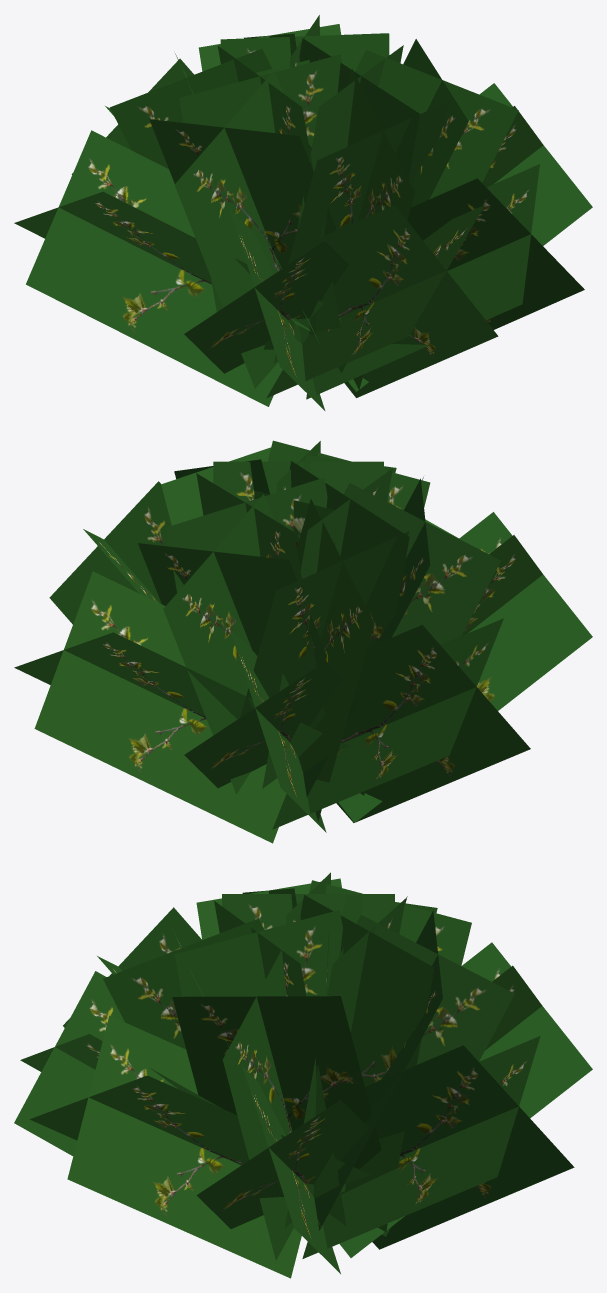
File: bush2.FBX
3 views of the same model, one above another, from view 1: azimuth 30°, elevation 25°; view 2: azimuth 150°, elevation 25°; view 3: azimuth 270°, elevation 25° (orthographic). The views are drawn at different scales.
Parts seen in each view (by area): view 1: bush2; view 2: bush2; view 3: bush2.
Boxes of the visible parts, box(x1,y1,x2,y2) form: bush2: box(14, 15, 592, 410); bush2: box(14, 440, 592, 843); bush2: box(14, 872, 592, 1278).
Size of the model in its own units: 11.76 by 7.46 by 11.25.
